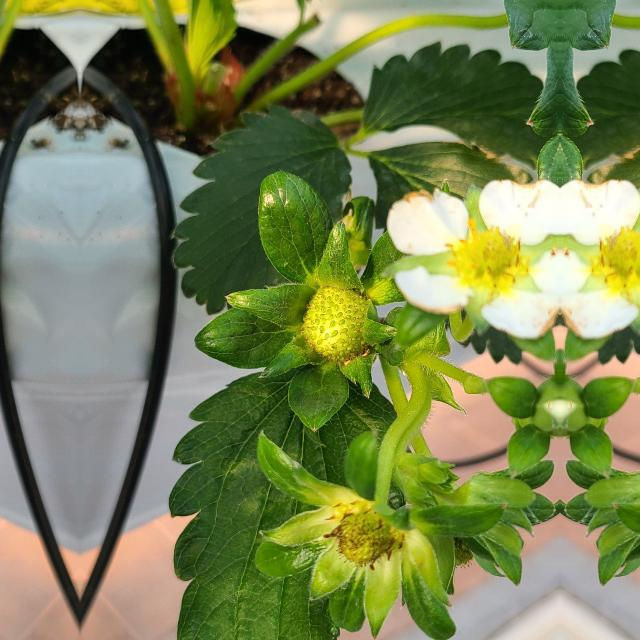Health_25: (300, 283, 378, 363)
